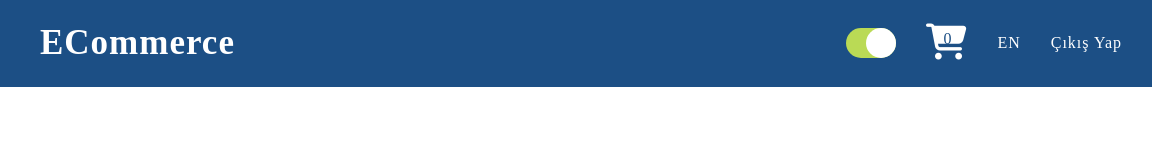
Test: Navbar › When click change language navbar translate is work?
This screenshot has width=1152, height=160.
Click the text with test id "language-en" at (1009, 43), box top-left (997, 34), bottom-right (1021, 52)
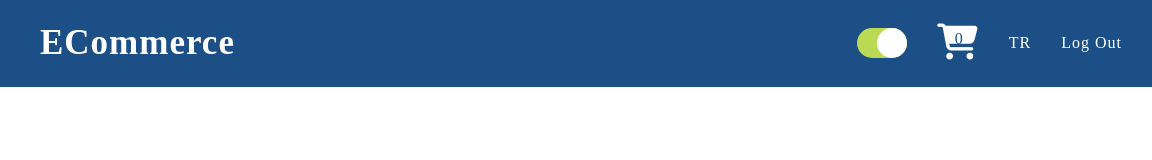
Expected: the element with test id "logout" is shown, top-left (1061, 34), bottom-right (1122, 52)
Expected: the element with test id "logout" reads "Log Out", top-left (1061, 34), bottom-right (1122, 51)
Expected: the text with test id "language-tr" reads "TR", top-left (1009, 34), bottom-right (1031, 51)
